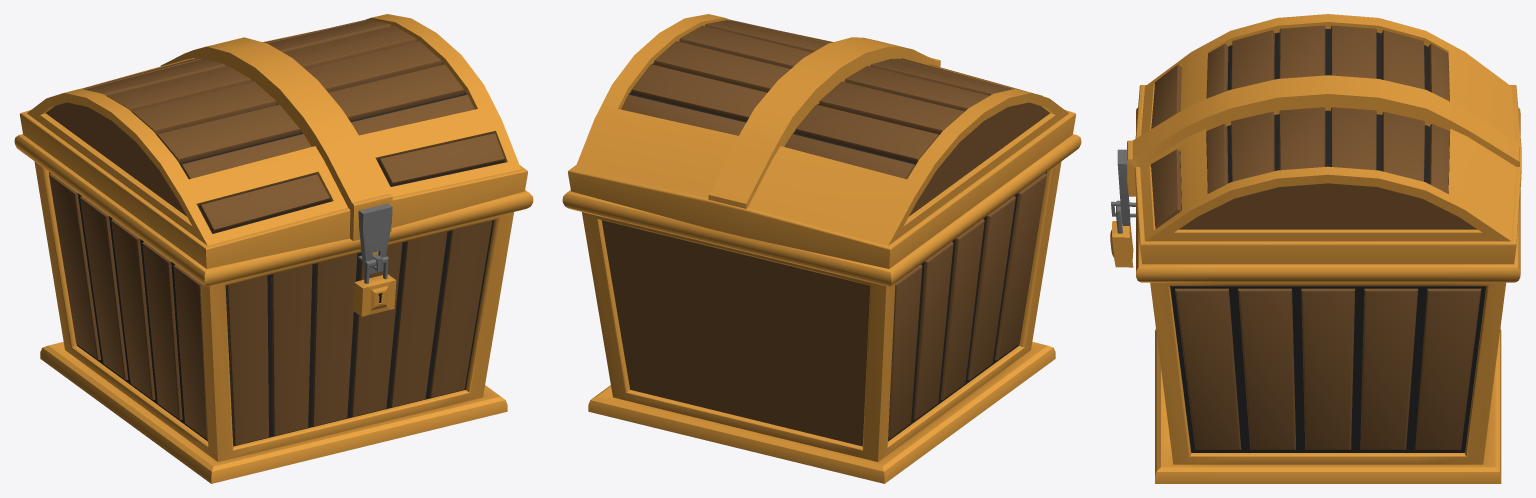
The model's file is Wood-Cofre.fbx.
3 views of the same model, side by side, from view 1: azimuth 30°, elevation 25°; view 2: azimuth 150°, elevation 25°; view 3: azimuth 270°, elevation 25° (orthographic).
Visible parts, largest first — view 1: Cube.006; view 2: Cube.006; view 3: Cube.006.
Boxes of the visible parts, <box> form: Cube.006: <box>14,14,533,483</box>; Cube.006: <box>562,14,1081,483</box>; Cube.006: <box>1110,14,1521,483</box>.
Bounding box in the file's own units: 202 × 189 × 216.
